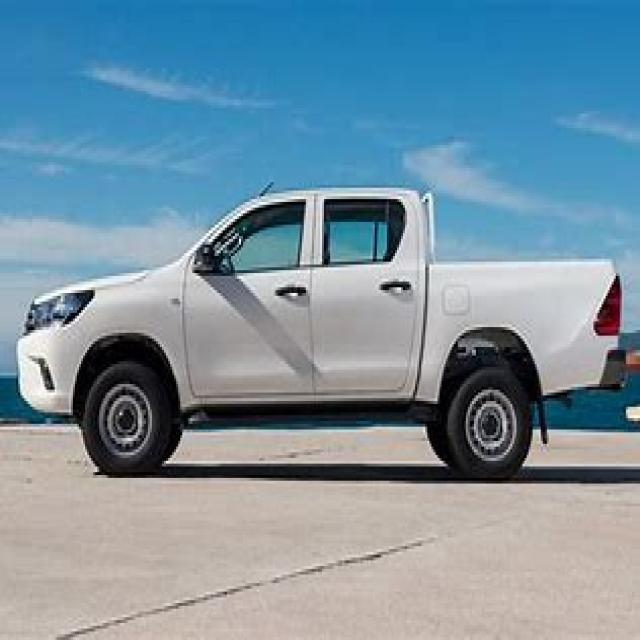light_vehicle: (10, 171, 632, 484)
